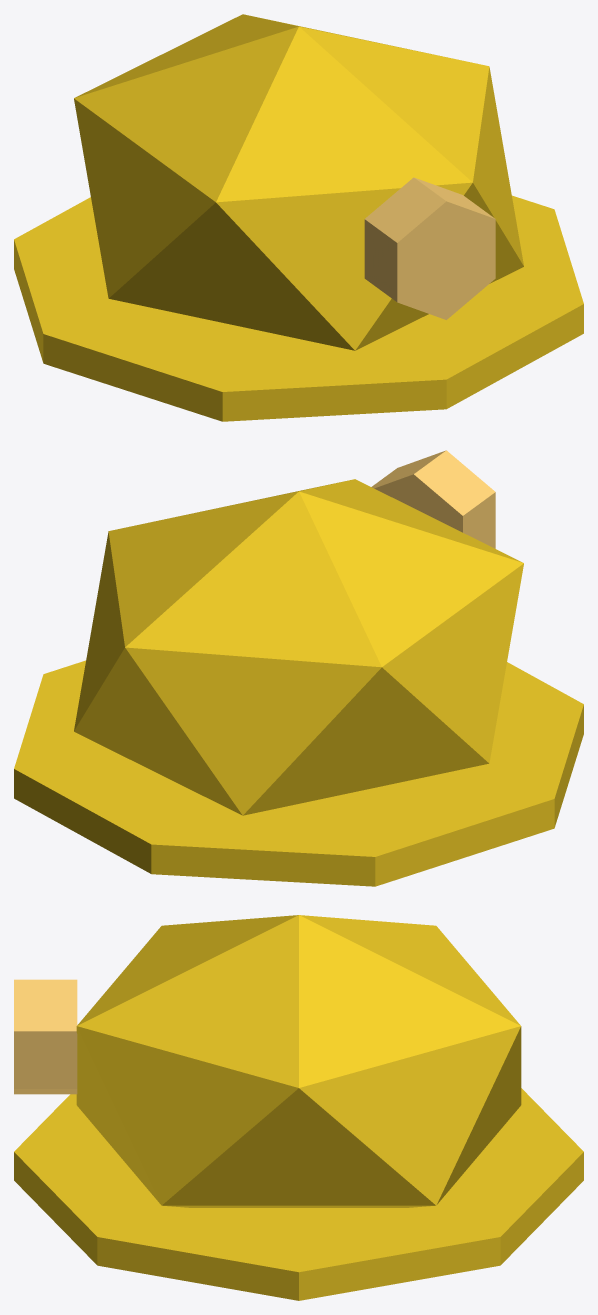
Rendered from mining_helmet.glb.
3 renders of one model, top to bottom at view 1: azimuth 30°, elevation 25°; view 2: azimuth 150°, elevation 25°; view 3: azimuth 270°, elevation 25°, orthographic. The views are drawn at different scales.
Parts seen in each view (by area): view 1: mining_helmet; view 2: mining_helmet; view 3: mining_helmet.
Boxes of the visible parts, <box> form: mining_helmet: <box>14,14,583,421</box>; mining_helmet: <box>14,450,583,886</box>; mining_helmet: <box>14,915,583,1300</box>.
Size of the model in its own units: 0.36 by 0.21 by 0.36.
